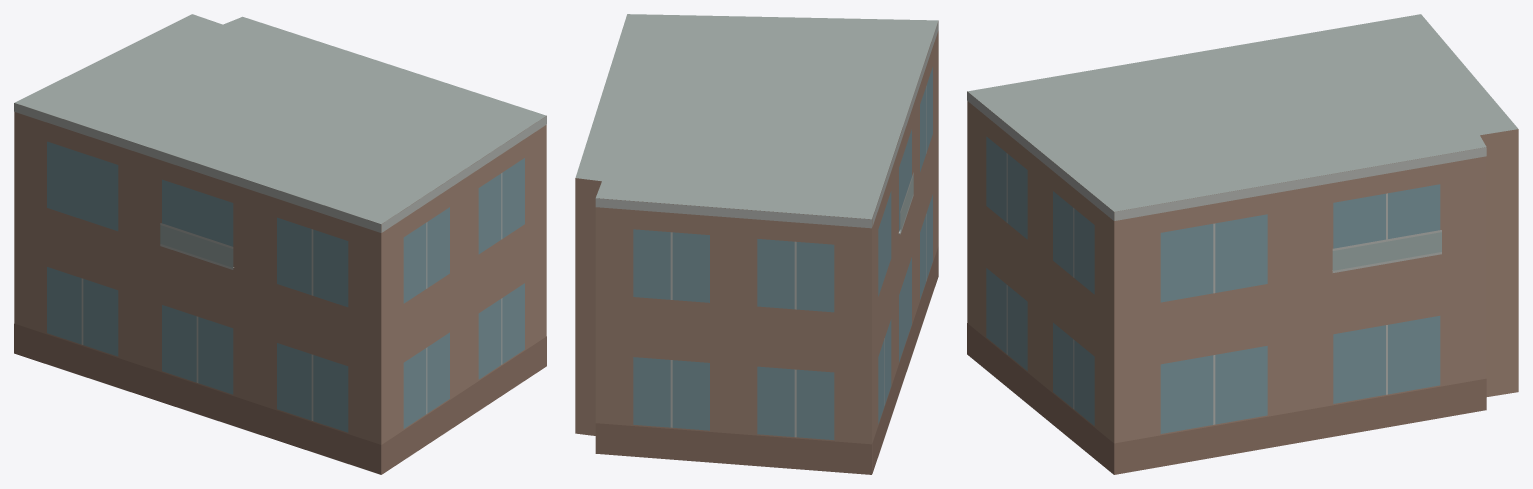
File: survey-upis-32505513.glb
The picture shows the model from 3 angles, left to right: view 1: azimuth 30°, elevation 25°; view 2: azimuth 150°, elevation 25°; view 3: azimuth 270°, elevation 25°; orthographic projection. The views are drawn at different scales.
Parts seen in each view (by area): view 1: survey-upis-32505513.tmp; view 2: survey-upis-32505513.tmp; view 3: survey-upis-32505513.tmp.
Part boxes in pixels (box(x1,y1,x2,y2)): survey-upis-32505513.tmp: box(14, 14, 546, 474); survey-upis-32505513.tmp: box(575, 14, 938, 474); survey-upis-32505513.tmp: box(967, 14, 1518, 474).
Bounding box in the file's own units: 11.14 × 6.9 × 13.12.
